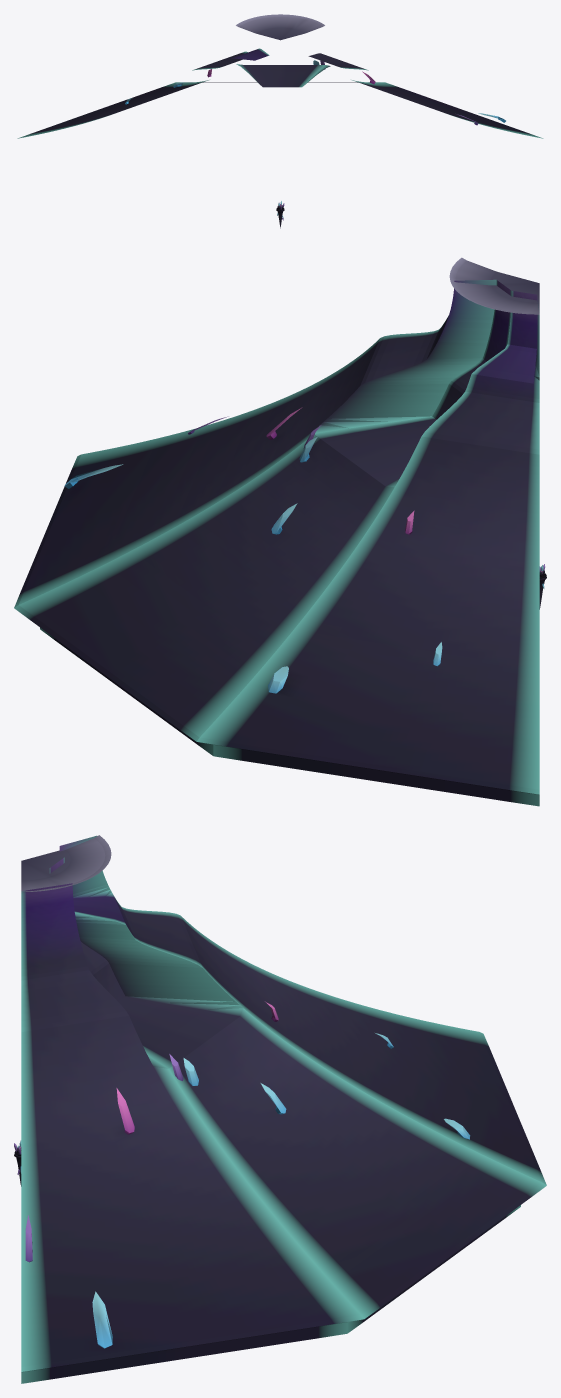
File: caverns-s2--NKDT1Q_.glb
3 renders of one model, top to bottom at view 1: azimuth 30°, elevation 25°; view 2: azimuth 150°, elevation 25°; view 3: azimuth 270°, elevation 25°, orthographic. The views are drawn at different scales.
Visible parts, largest first — view 1: sc_landmark_0; view 2: sc_landmark_0; view 3: sc_landmark_0.
Boxes of the visible parts, x1=… form: sc_landmark_0: x1=17, y1=14, x2=543, y2=138; sc_landmark_0: x1=14, y1=257, x2=539, y2=806; sc_landmark_0: x1=21, y1=835, x2=546, y2=1383.
Size of the model in its own units: 648 by 298 by 432.
